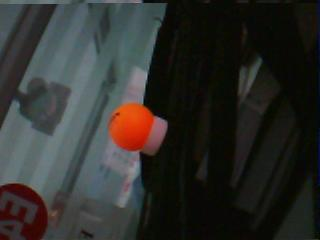oball: (109, 103, 153, 151)
